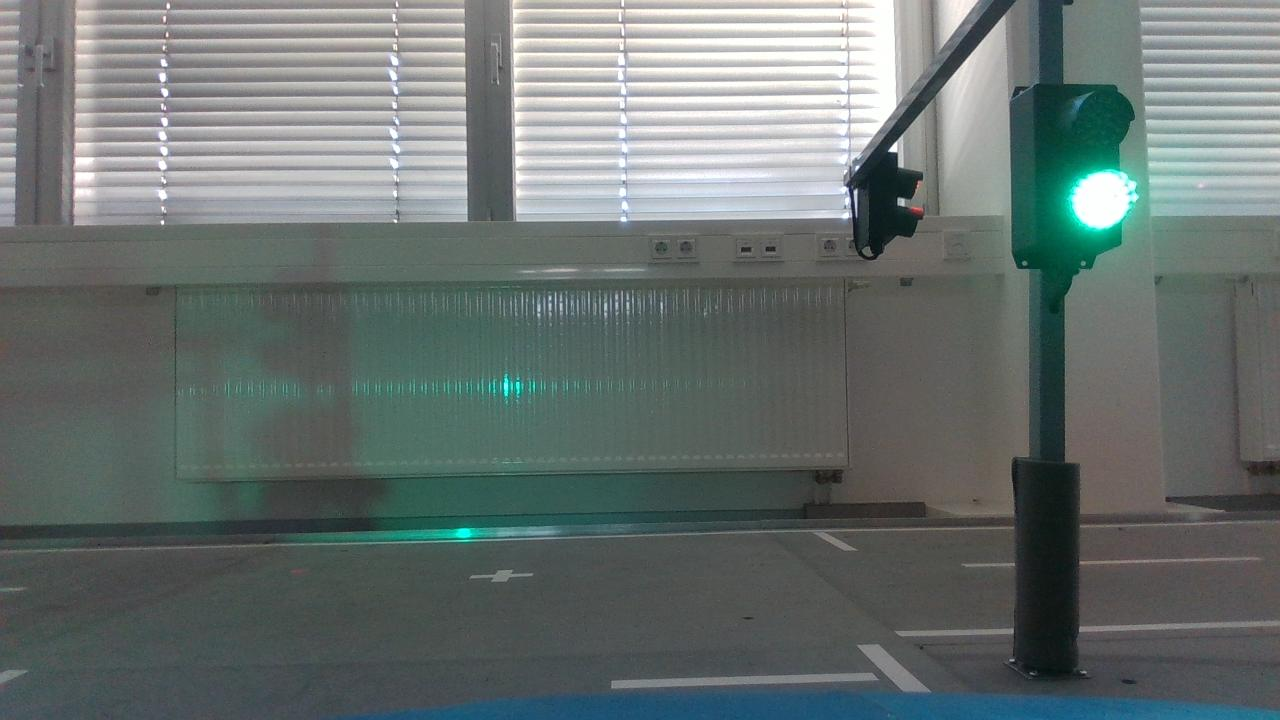traffic_light_green: (995, 71, 1141, 275)
